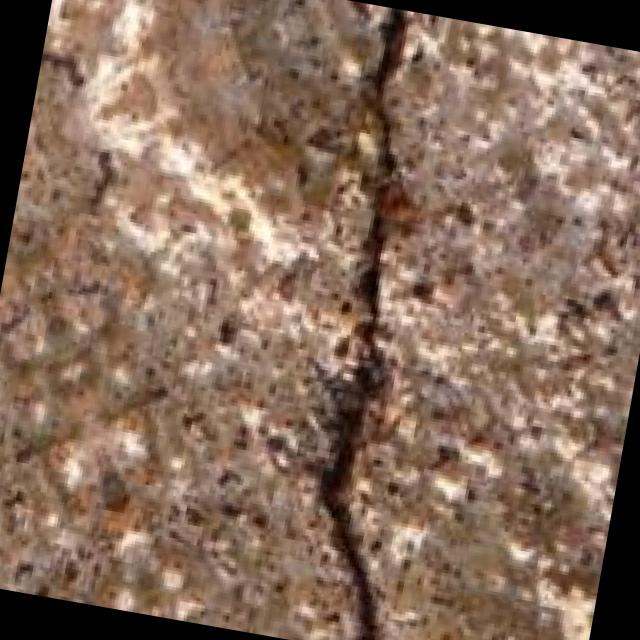crack: (239, 0, 611, 640)
